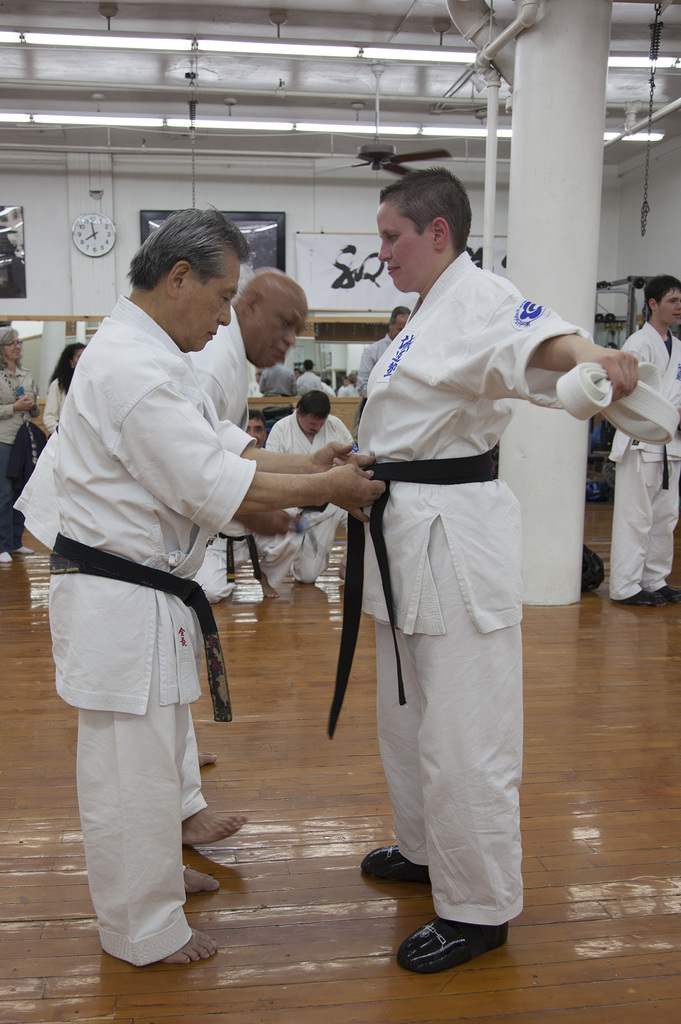Person: (0, 163, 680, 973)
